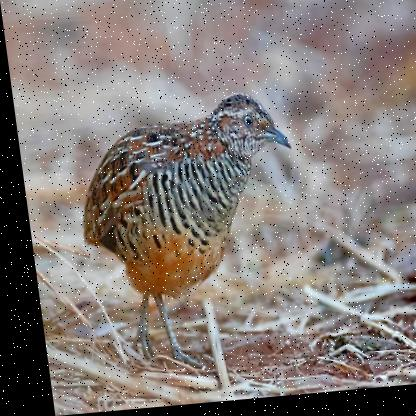Burung: (63, 93, 309, 379)
